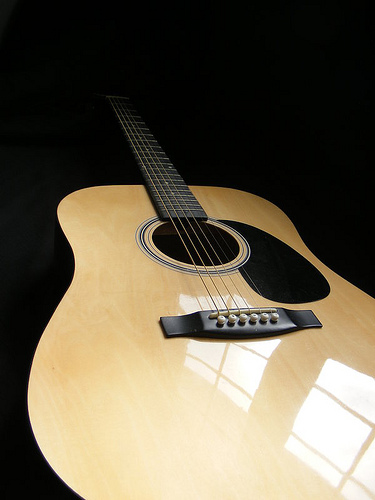guitar: (27, 111, 375, 499)
